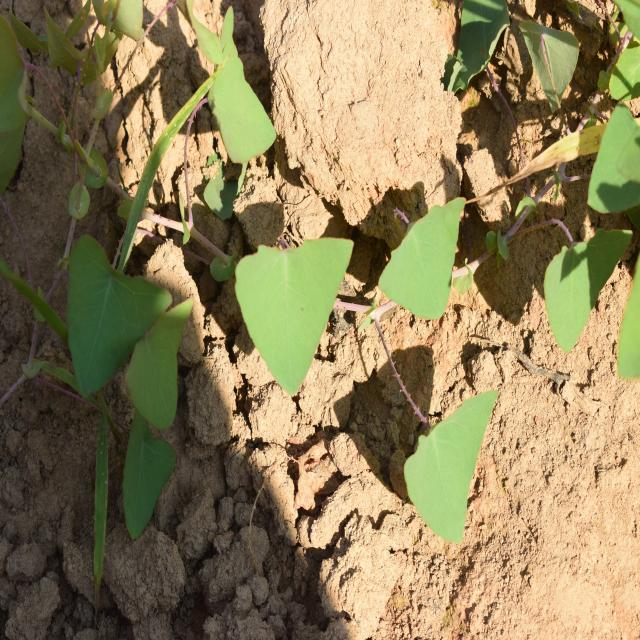Asiatic_Smartweed: (49, 228, 203, 452), (229, 227, 348, 417), (405, 378, 511, 550), (363, 180, 470, 330)
